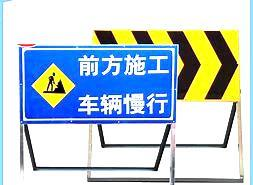sign: (20, 45, 176, 121)
